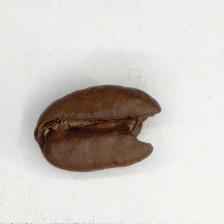NG: (131, 94, 163, 157)
